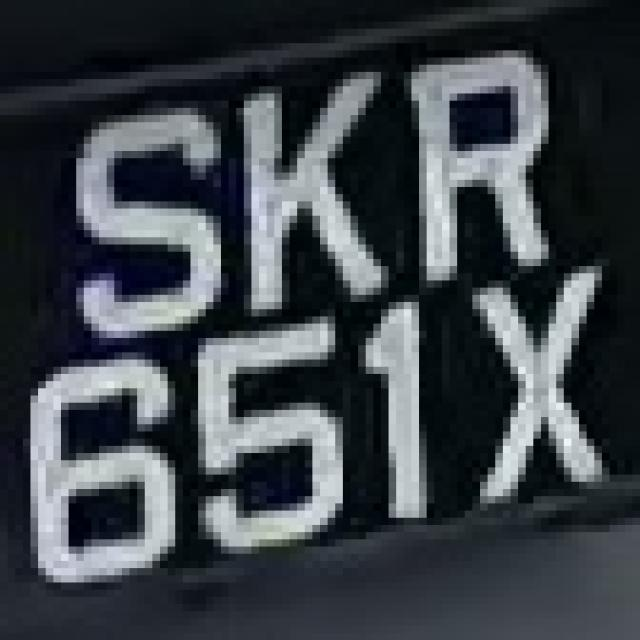1: (335, 281, 427, 532)
5: (183, 295, 358, 575)
6: (15, 345, 183, 604)
K: (221, 79, 381, 302)
R: (381, 43, 579, 295)
S: (46, 101, 221, 352)
X: (457, 273, 594, 511)
